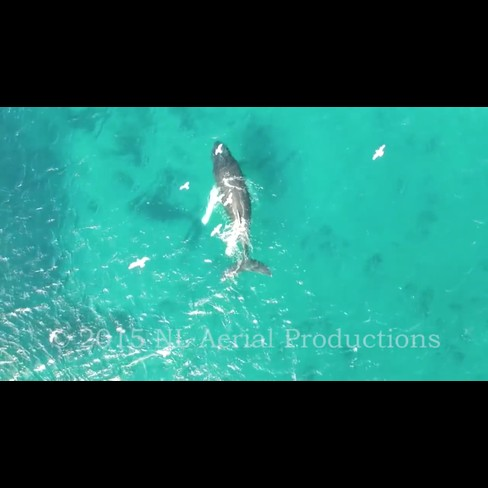hump: (190, 134, 275, 287)
